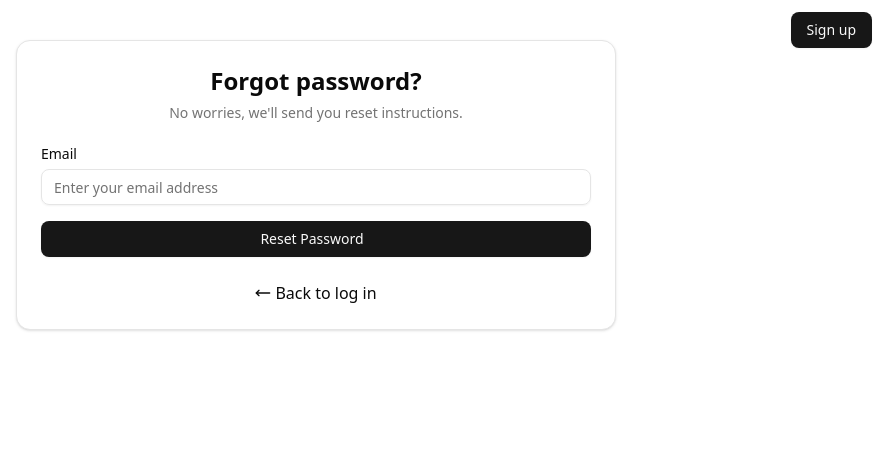
Test case: Test Forgot Password Form component for FAILURE response › should render error message when forgot-password API failes
// enter email
In the field with test id "field-email": coordinates (316, 187) [41,169,591,205], type "johndoe@test.com"
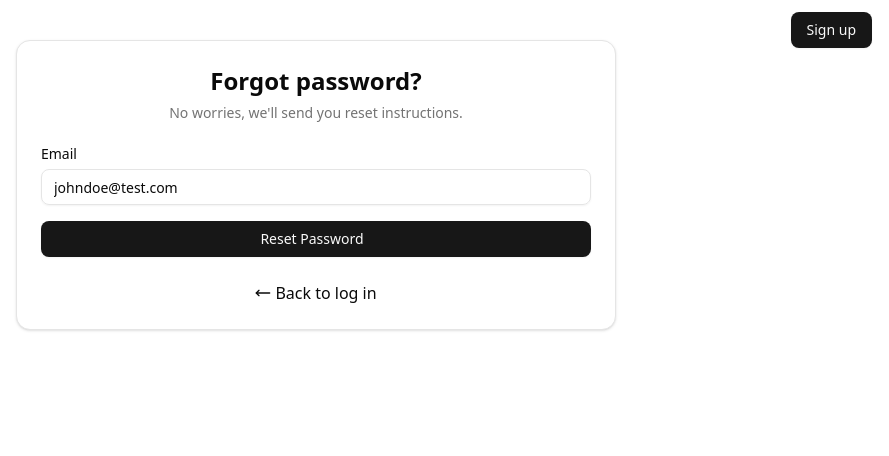
// click forgot password button
Click the button "Reset Password": coordinates (316, 239) [41,221,591,257]
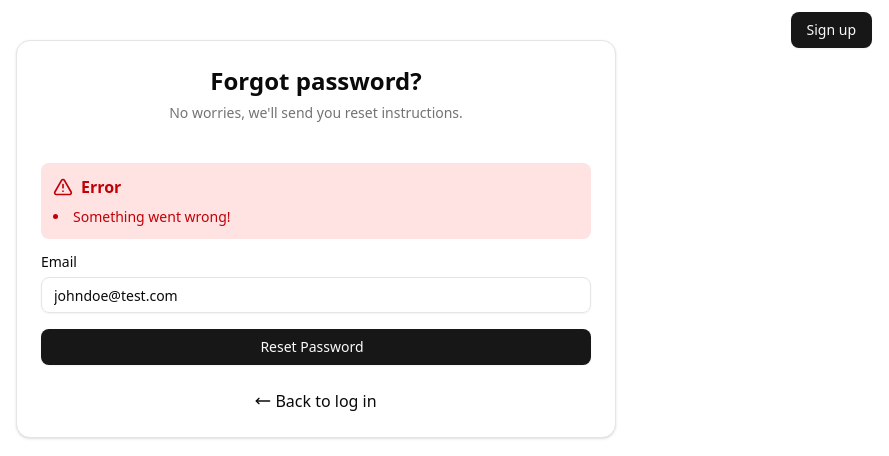
Expected: the element with test id "forgot-password-form-errors" is shown, [41,163,591,239]
